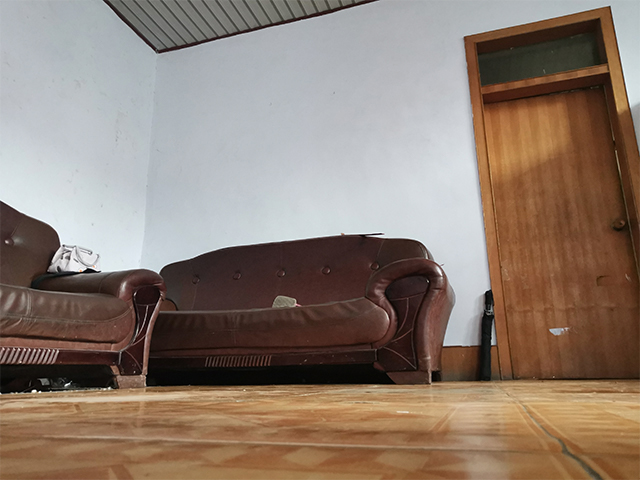sofa: (154, 233, 459, 385), (1, 200, 160, 387)
